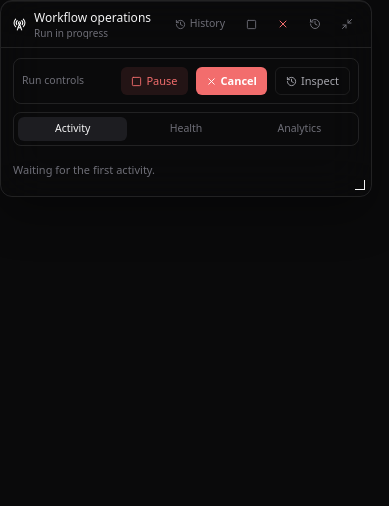
Test: WorkflowMonitorCard › loads refreshable health and analytics data from the workflow endpoints
Click the button "health" at (186, 129), box [131,117,241,141]
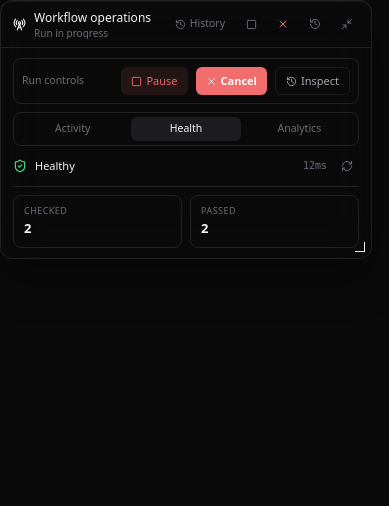
expect the text "Healthy" is shown: met, box [35,158,75,172]
expect the text "2" is shown 2 times: met, box [24,219,31,237]; [201,219,208,237]
Click the button "analytics" at (299, 129), box [245,117,354,141]
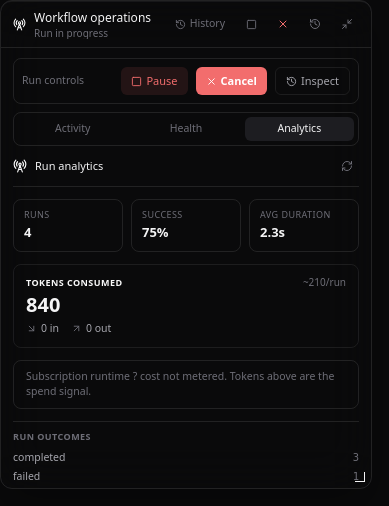
expect the text "Run analytics" is shown: met, box [35,158,103,172]
expect the text "75%" is shown: met, box [142,223,169,241]
expect the text "2.3s" is shown: met, box [260,223,285,241]
